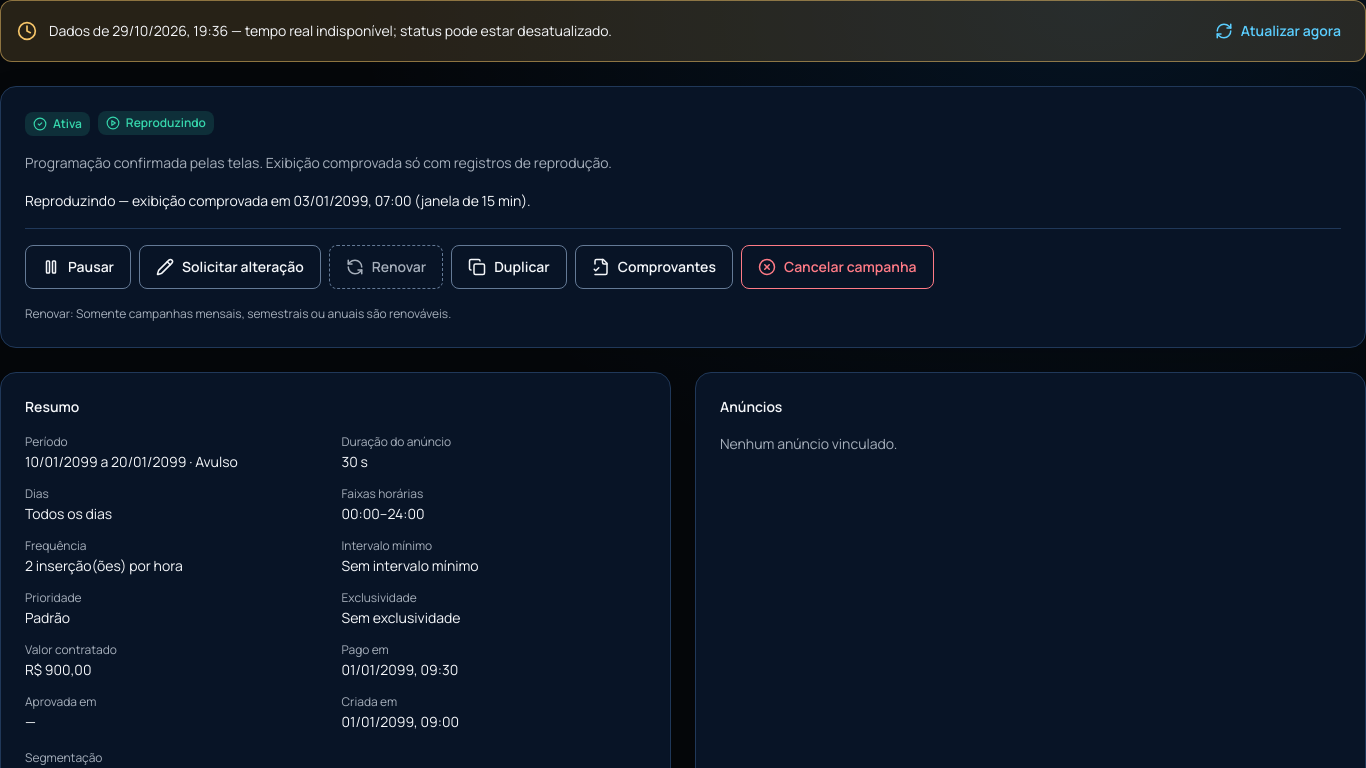
Test: detalhe da campanha — anunciante › cancelar campanha paga mostra a cotação de reembolso calculada pelo servidor
Click the button "Cancelar campanha" at (837, 267), box x1=741 y1=245 x2=934 y2=289
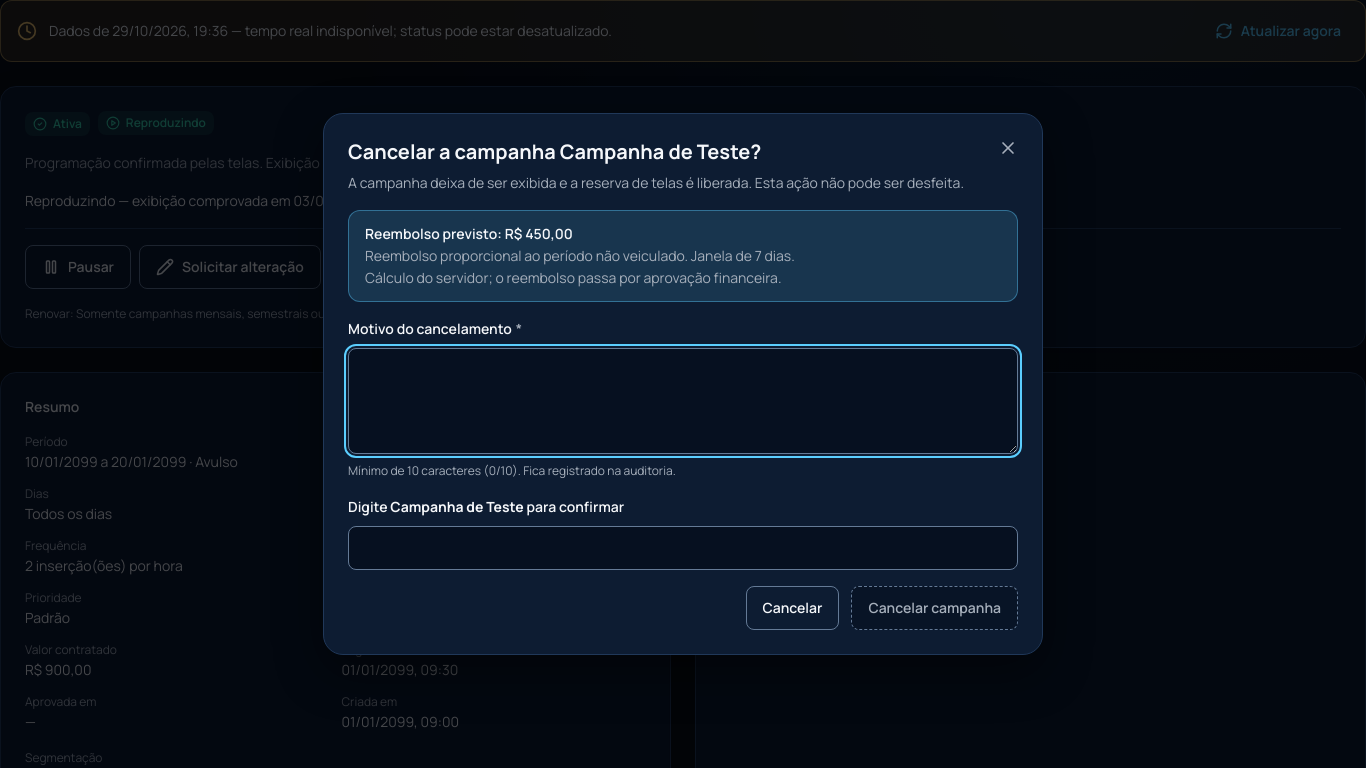
Now the text "Reembolso previsto: R$ 450,00" is shown, box x1=365 y1=224 x2=573 y2=243
Now the list item "proporcional ao período não veiculado" is shown, box x1=365 y1=246 x2=688 y2=265
Now the button "Cancelar campanha" is disabled, box x1=851 y1=586 x2=1018 y2=630
